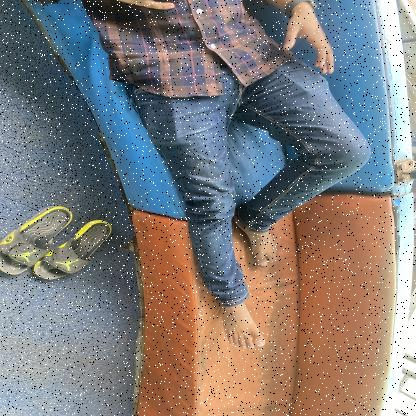hand: (256, 0, 354, 78)
leg: (170, 238, 268, 365), (230, 165, 316, 269)
